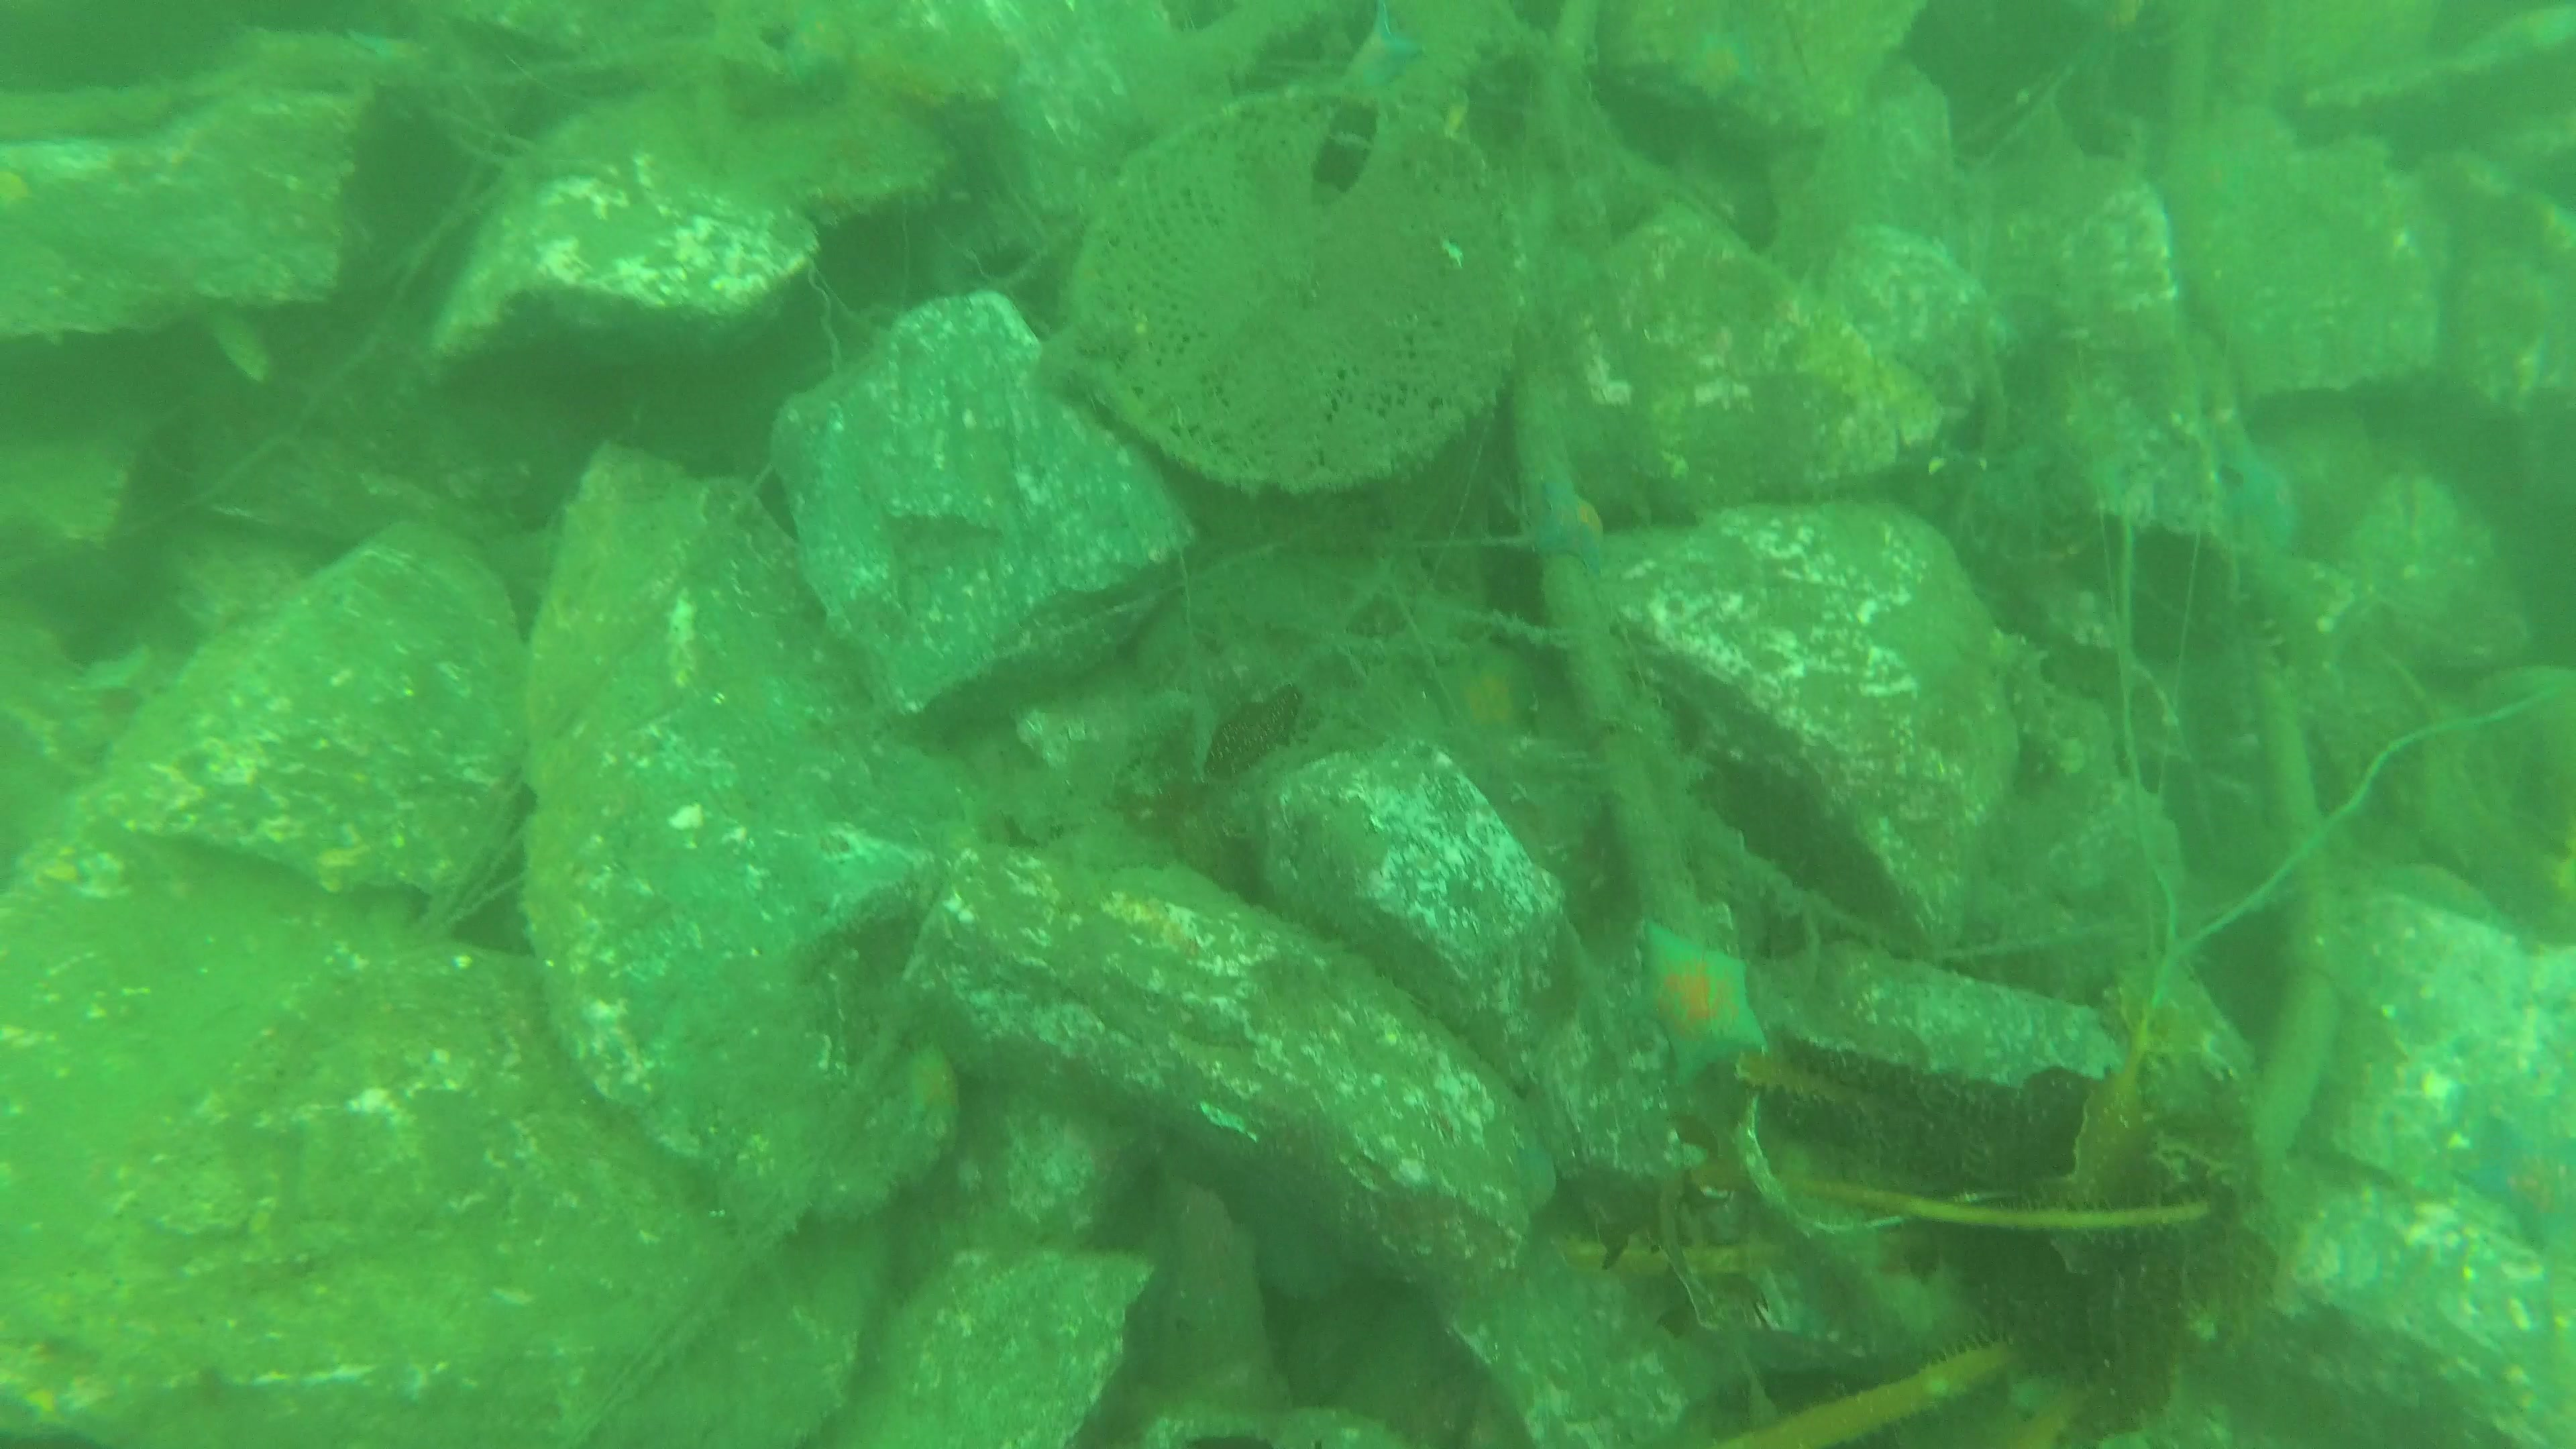holothurian: (2001, 635, 2066, 801)
starfish: (1629, 918, 1769, 1090), (2459, 1108, 2576, 1253), (1428, 649, 1541, 747), (1674, 12, 1766, 110), (1523, 478, 1606, 580), (2226, 448, 2302, 559), (1338, 0, 1422, 97), (902, 1040, 961, 1136), (1514, 1138, 1557, 1214)
